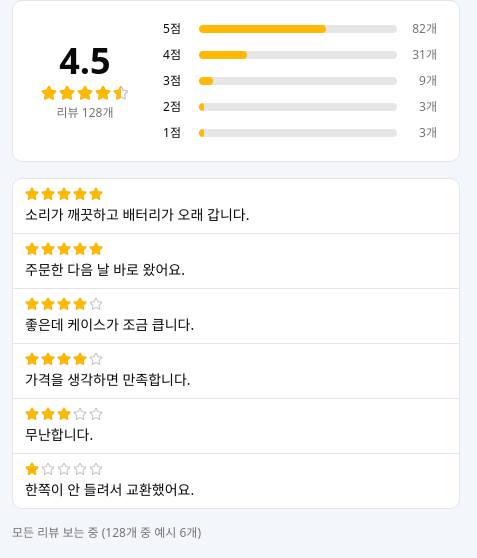
Test: distribution: a bar filters the reviews to its score and toggles back
The image size is (477, 558).
Check: the text "4.5" is shown, box [59,41,111,81]
Check: the text "리뷰 128개" is shown, box [57,105,113,121]
Step 1. Click the button "5점 82개" → (300, 29), box [157,17,443,41]
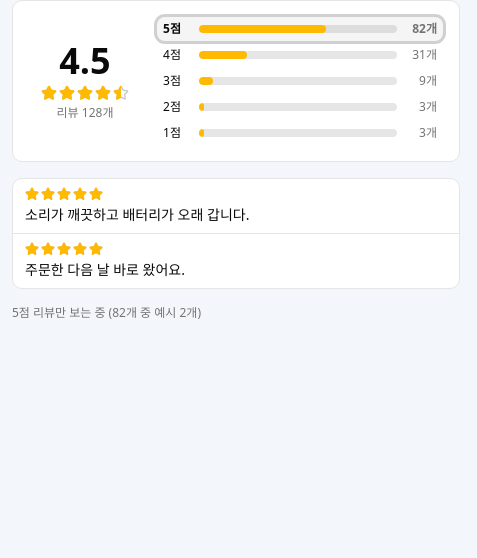
Check: the message reads "5점 리뷰만 보는 중 (82개 중 예시 2개)", box [12,304,201,321]
Step 2. Click the button "2점 3개" → (300, 107), box [157,95,443,119]
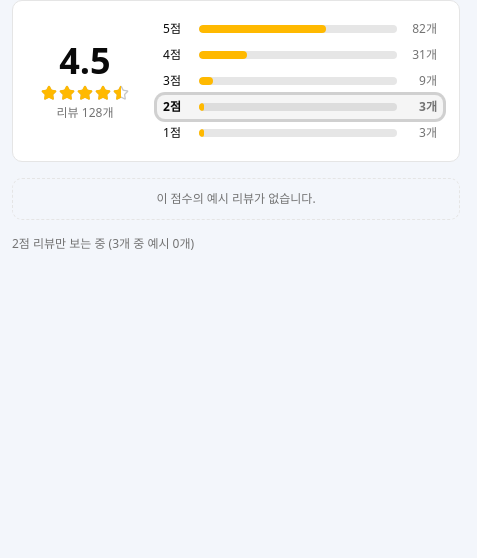
Check: the text "이 점수의 예시 리뷰가 없습니다." is shown, box [12,178,460,220]
Step 3. Click the button "2점 3개" → (300, 107), box [157,95,443,119]
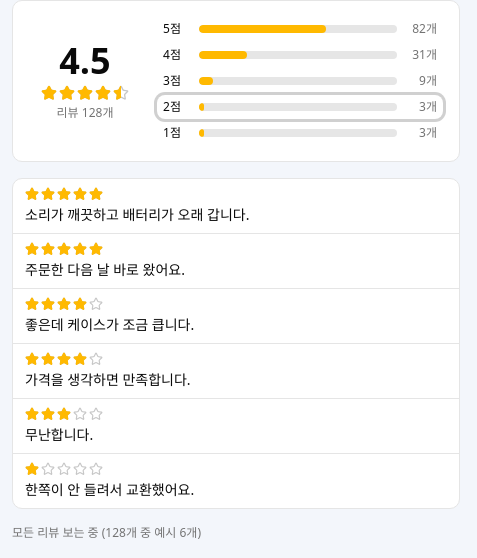
Check: the message shows "모든 리뷰 보는 중", box [12,524,201,541]
